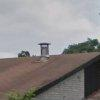Chimney: (34, 37, 55, 65)
